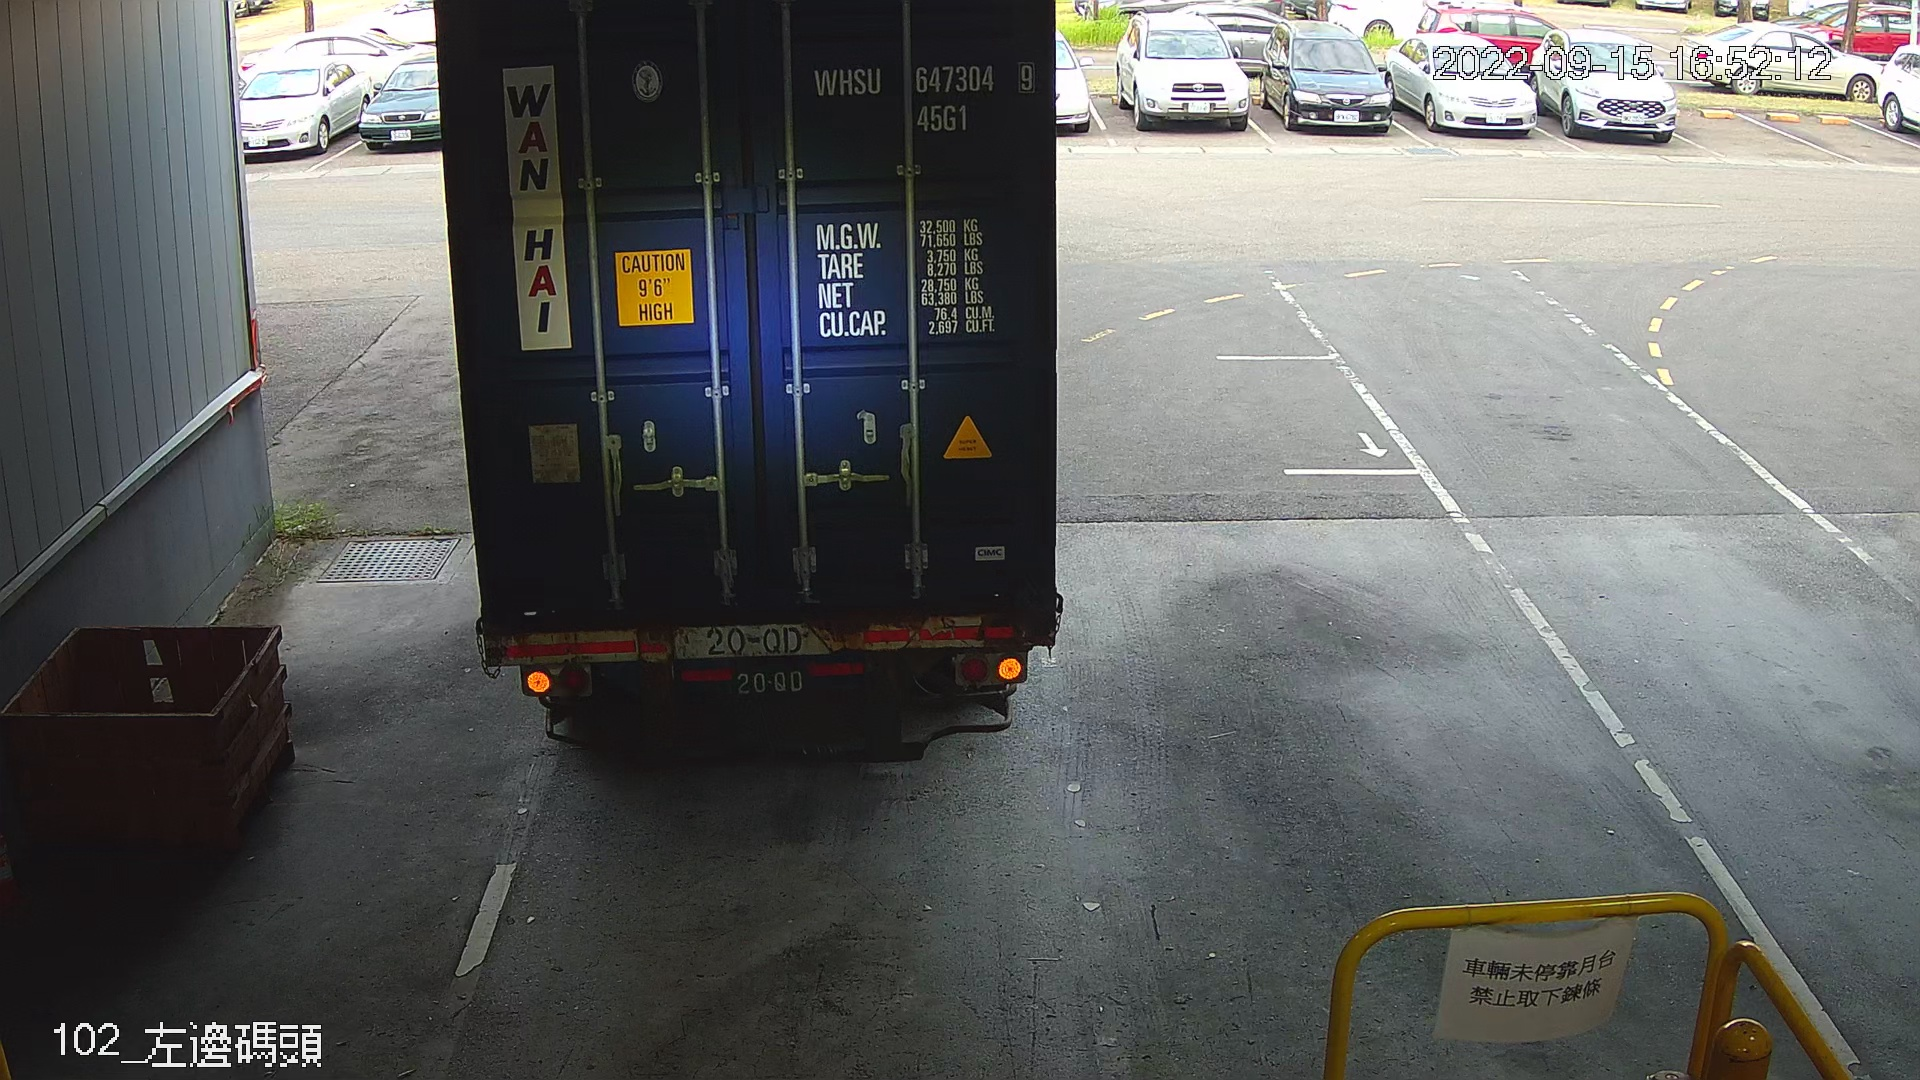container: (800, 51, 1047, 138)
